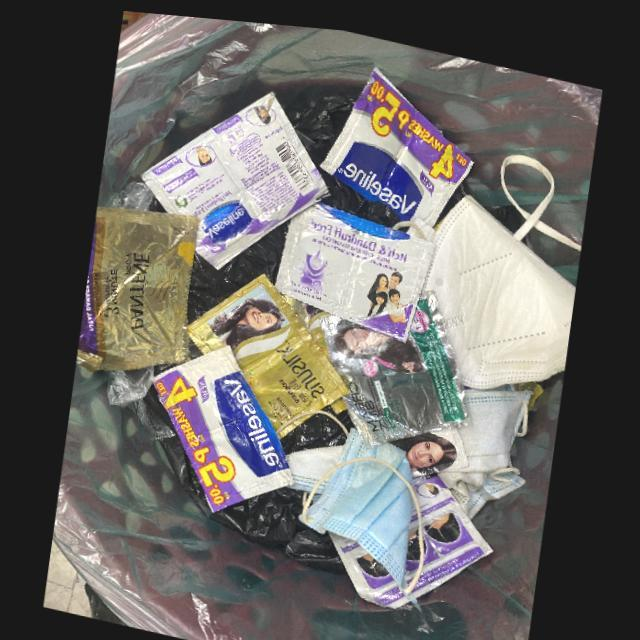wrapper: (139, 85, 327, 265), (186, 269, 348, 427), (319, 59, 474, 220), (318, 283, 473, 442), (151, 341, 294, 509), (327, 464, 491, 604), (274, 197, 435, 335), (75, 204, 198, 370)
